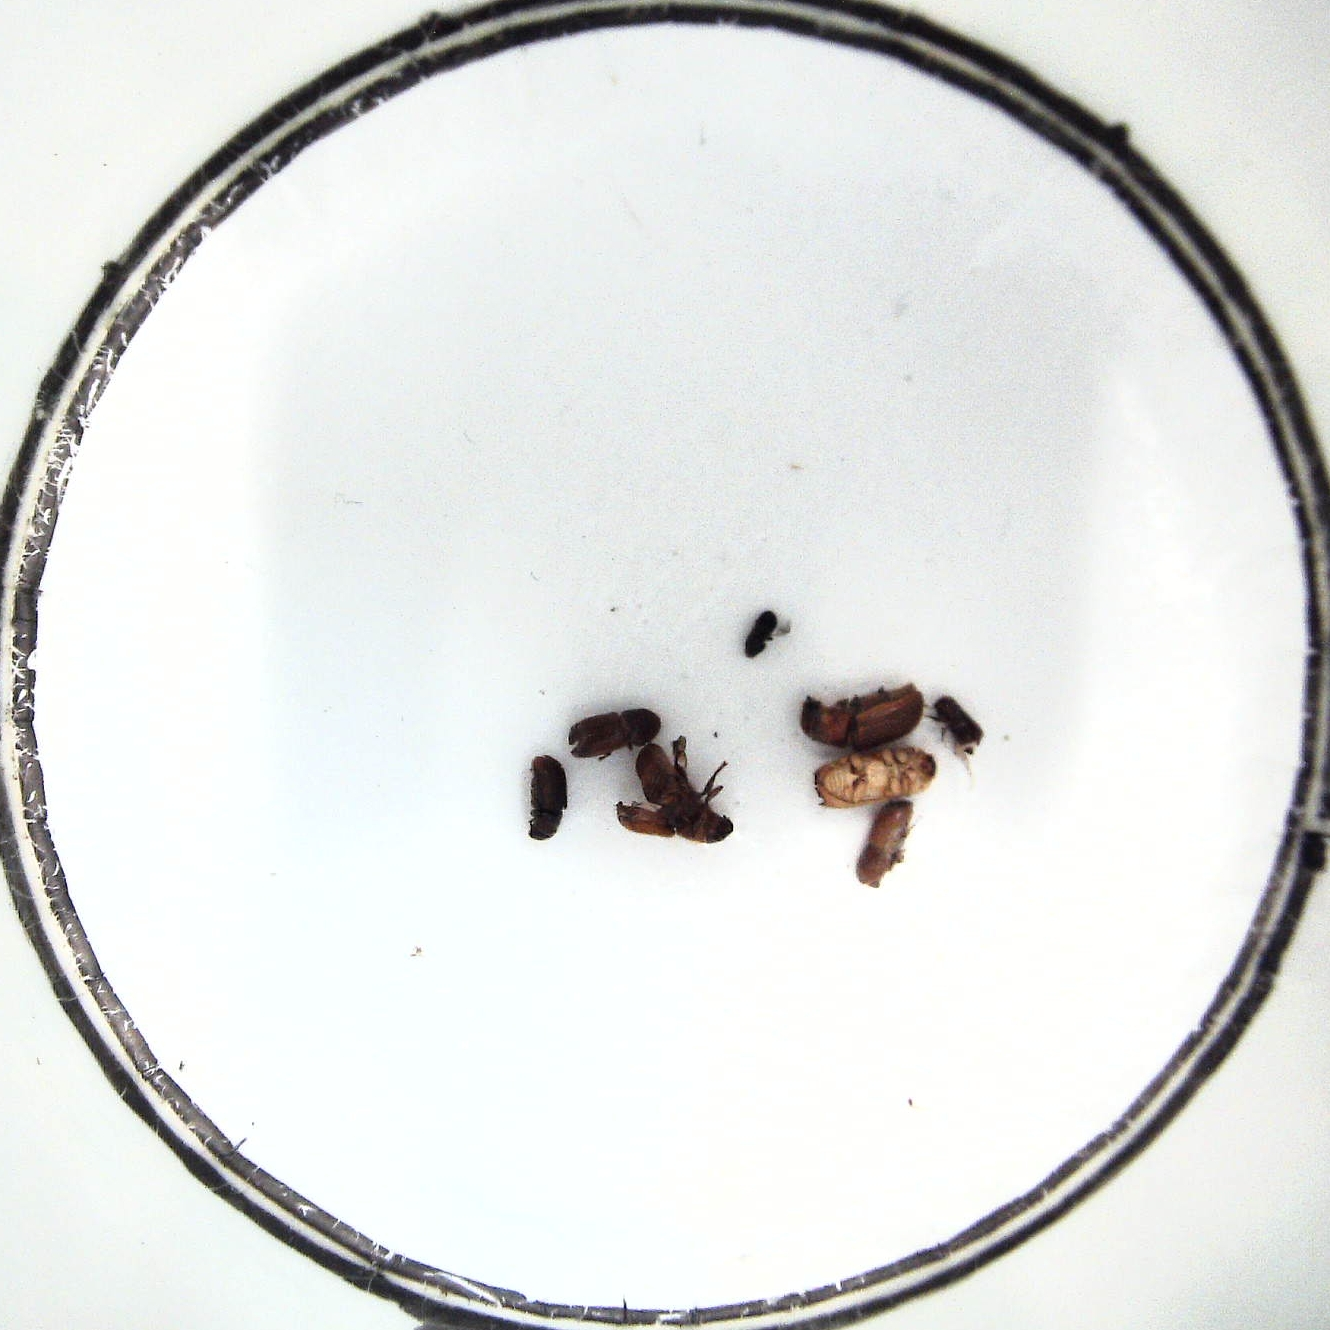Boerner: (814, 748, 935, 806)
Leconte: (614, 737, 734, 850), (795, 682, 926, 749)
Linnaeus: (857, 799, 918, 888), (568, 708, 666, 758)
acuminatus: (927, 693, 980, 758)
armandi: (522, 753, 571, 842)
coleoptera: (739, 609, 779, 660)
